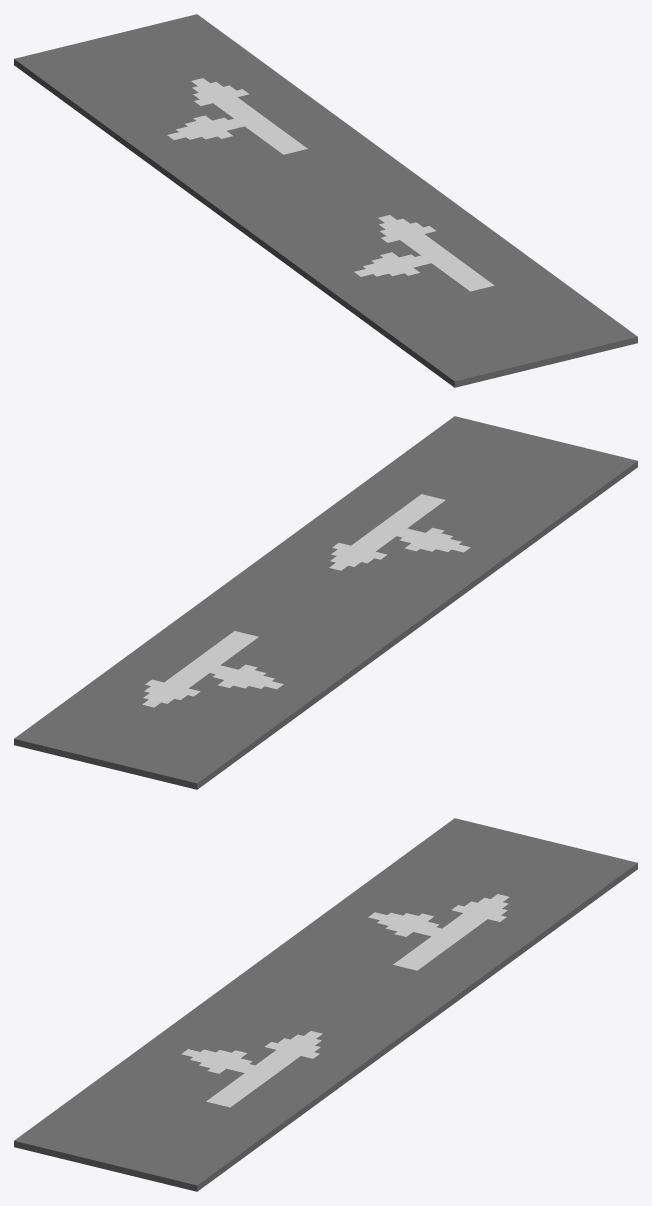
The model's file is turn-lane-left-straight.obj.
The picture shows the model from 3 angles, top to bottom: view 1: azimuth 30°, elevation 25°; view 2: azimuth 150°, elevation 25°; view 3: azimuth 330°, elevation 25°; orthographic projection.
Size of the model in its own units: 30 by 1 by 125.
